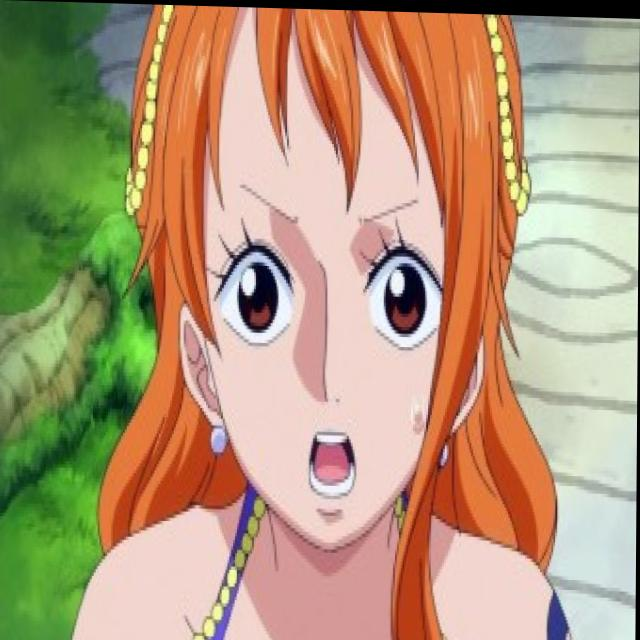Nami: (110, 3, 536, 547)
